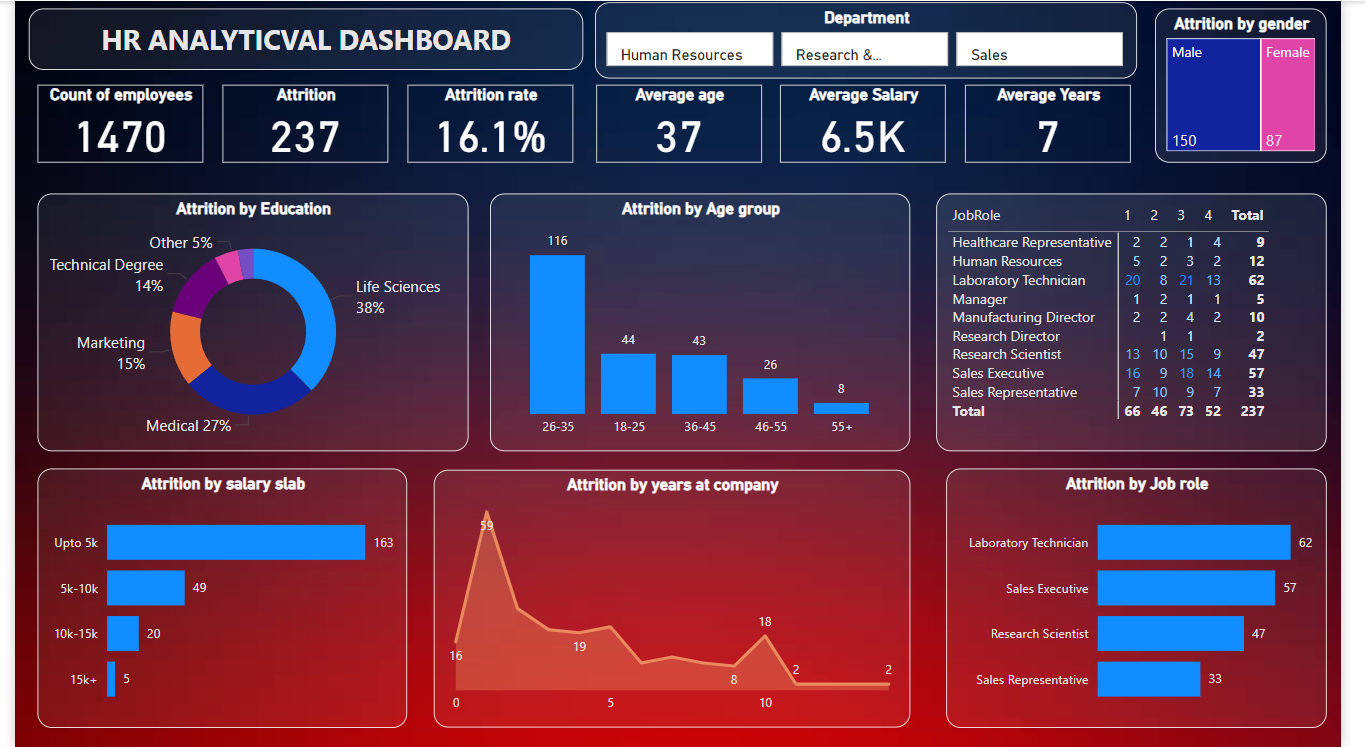

Layout of this report page (visuals, bound fields, positions):
{"tool":"powerbi","page":{"name":"Page 1","canvas":[1280,720],"ordinal":0},"visuals":[{"type":"card","title":"Count of employees","fields":{"Values":["CountNonNull(HR_Analytics.EmpID)"]},"box":[22.2,80.7,160,75],"z":0},{"type":"card","title":"Attrition","fields":{"Values":["CountNonNull(HR_Analytics.Attrition)"]},"box":[200.5,80.7,160,75],"z":1000},{"type":"card","title":"Attrition rate","fields":{"Values":["HR_Analytics.Attrition Rate"]},"box":[378.9,80.7,160,75],"z":2000},{"type":"card","title":"Average age","fields":{"Values":["Avg(HR_Analytics.Age)"]},"box":[560.5,80.7,160,75],"z":3000},{"type":"card","title":"Average Salary","fields":{"Values":["Avg(HR_Analytics.MonthlyIncome)"]},"box":[738.9,80.7,160,75],"z":4000},{"type":"card","title":"Average Years","fields":{"Values":["Avg(HR_Analytics.YearsAtCompany)"]},"box":[917.2,80.7,160,75],"z":5000},{"type":"donutChart","title":"Attrition by Education","fields":{"Y":["CountNonNull(HR_Analytics.Attrition)"],"Category":["HR_Analytics.EducationField"]},"box":[21.4,185.7,415.7,248.6],"z":6000},{"type":"columnChart","title":"Attrition by Age group","fields":{"Category":["HR_Analytics.AgeGroup"],"Y":["CountNonNull(HR_Analytics.Attrition)"]},"box":[458.6,185.7,405.7,248.6],"z":7000},{"type":"pivotTable","fields":{"Rows":["HR_Analytics.JobRole"],"Columns":["HR_Analytics.JobSatisfaction"],"Values":["CountNonNull(HR_Analytics.Attrition)"]},"box":[888.6,185.7,377.1,248.6],"z":8000},{"type":"barChart","title":"Attrition by salary slab","fields":{"Category":["HR_Analytics.SalarySlab"],"Y":["CountNonNull(HR_Analytics.Attrition)"]},"box":[21.4,451.4,357.1,250],"z":8001},{"type":"barChart","title":"Attrition by Job role","fields":{"Y":["CountNonNull(HR_Analytics.Attrition)"],"Category":["HR_Analytics.JobRole"]},"box":[898.6,451.4,367.1,250],"z":8002},{"type":"areaChart","title":"Attrition by years at company","fields":{"Category":["HR_Analytics.YearsAtCompany"],"Y":["CountNonNull(HR_Analytics.Attrition)"]},"box":[404.3,452.9,460,248.6],"z":8003},{"type":"treemap","title":"Attrition by gender","fields":{"Group":["HR_Analytics.Gender"],"Values":["CountNonNull(HR_Analytics.Attrition)"]},"box":[1100,7.1,165.7,148.6],"z":8004},{"type":"advancedSlicerVisual","fields":{"Values":["HR_Analytics.Department"]},"box":[560,1.7,523.3,73.3],"z":8005},{"type":"textbox","box":[13.3,6.7,535.6,58.9],"z":8006}]}

Visuals, with their boxes in screenshot pixels (x1, y1, x2, y2), scaled from the page's 1280x720 canvas onto the 1365x747 screenshot:
"Count of employees" card: 24,84,194,162
"Attrition" card: 214,84,384,162
"Attrition rate" card: 404,84,575,162
"Average age" card: 598,84,768,162
"Average Salary" card: 788,84,959,162
"Average Years" card: 978,84,1149,162
"Attrition by Education" donutChart: 23,193,466,451
"Attrition by Age group" columnChart: 489,193,922,451
pivotTable - HR_Analytics.JobRole x HR_Analytics.JobSatisfaction: 948,193,1350,451
"Attrition by salary slab" barChart: 23,468,404,728
"Attrition by Job role" barChart: 958,468,1350,728
"Attrition by years at company" areaChart: 431,470,922,728
"Attrition by gender" treemap: 1173,7,1350,162
advancedSlicerVisual - HR_Analytics.Department: 597,2,1155,78
textbox: 14,7,585,68
